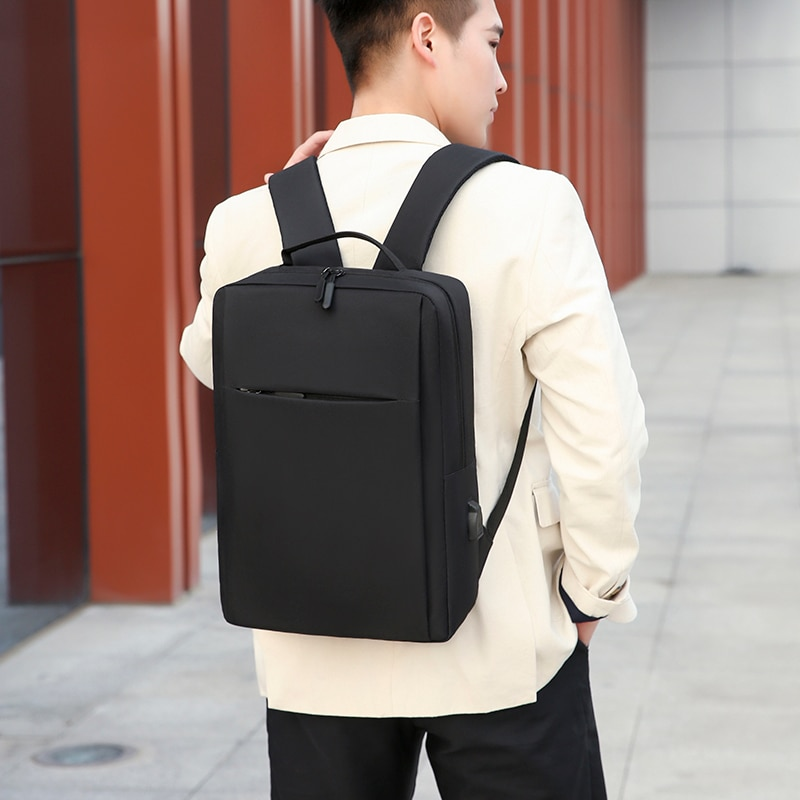Bottoms|Pants: (265, 648, 605, 800)
Men's Backpacks: (215, 140, 516, 642)
Tops|Shirts: (177, 115, 653, 714)
